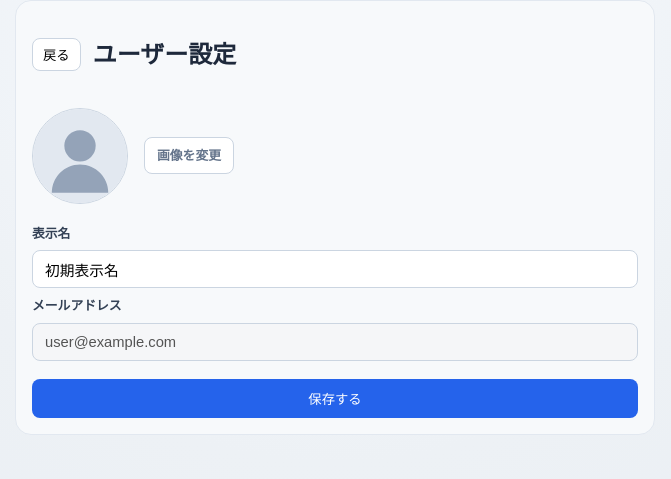
it: UserSettingsPage › 表示名が 1〜30 文字の範囲外ならバリデーションエラーを表示する
Clear the field with test id "display-name-input": (335, 269) [32,250,638,288]
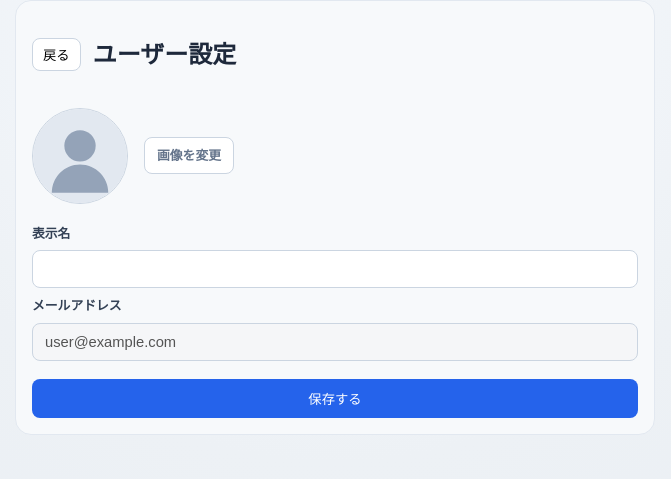
Submit the form, box [32,224,638,418]
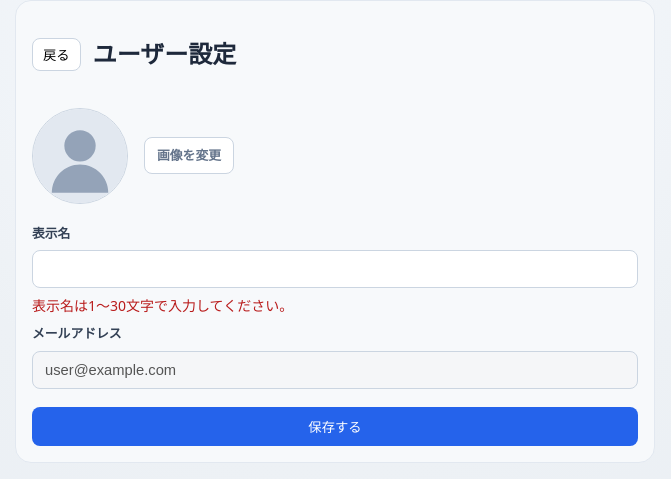
Check: the text with test id "display-name-error" shows "1〜30文字", box [32,296,293,315]
